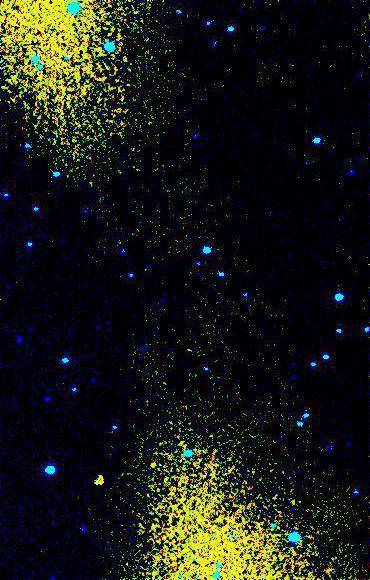star: (136, 451, 166, 481)
